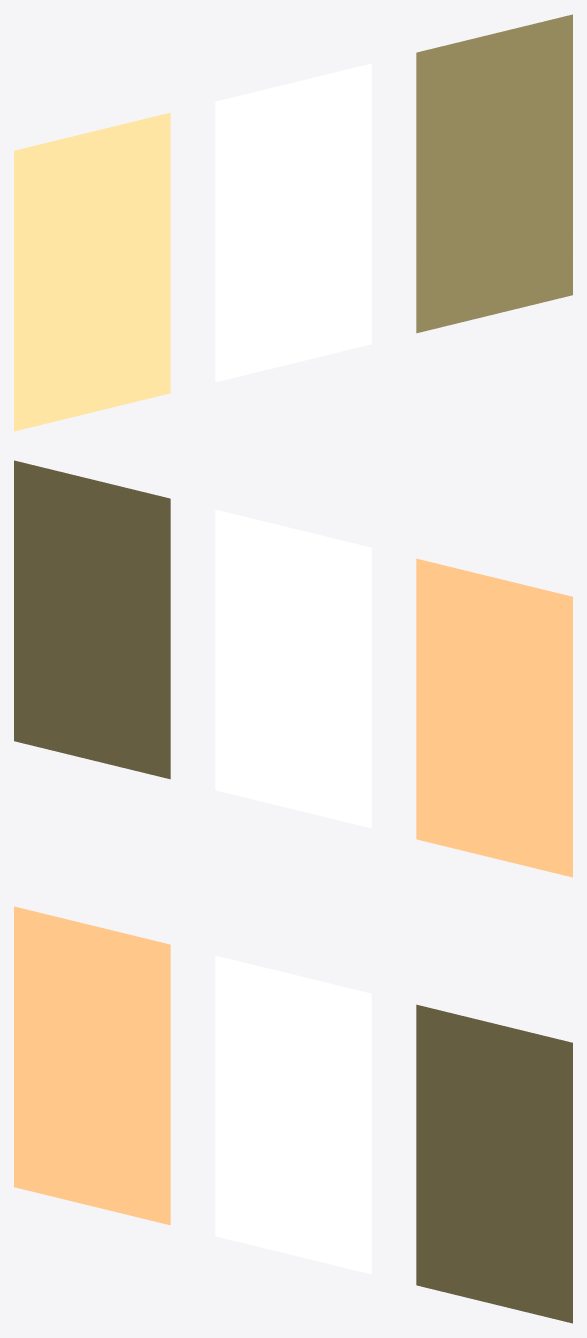
File: panels.gltf
The picture shows the model from 3 angles, top to bottom: view 1: azimuth 30°, elevation 25°; view 2: azimuth 150°, elevation 25°; view 3: azimuth 330°, elevation 25°; orthographic projection.
Bounding box in the file's own units: 5 × 2.4 × 0.
